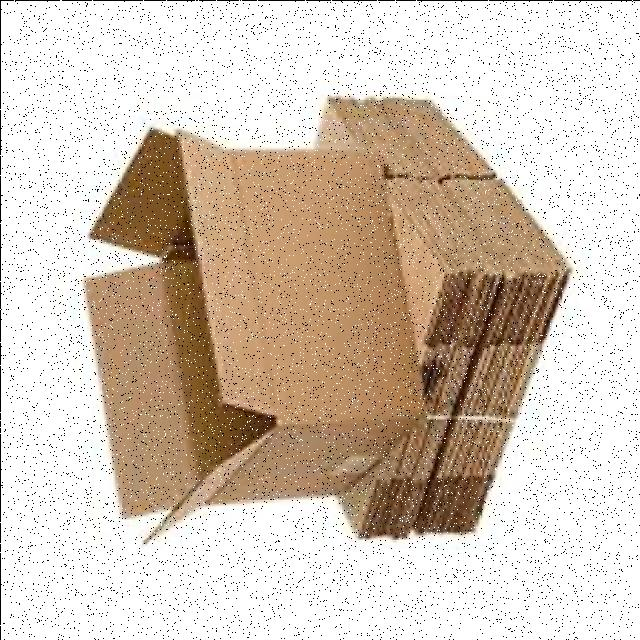defect: (82, 122, 420, 548)
